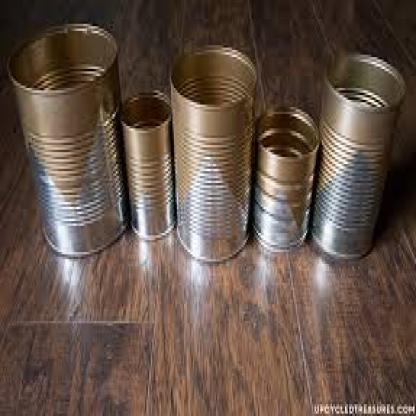Metal: (10, 21, 416, 290)
